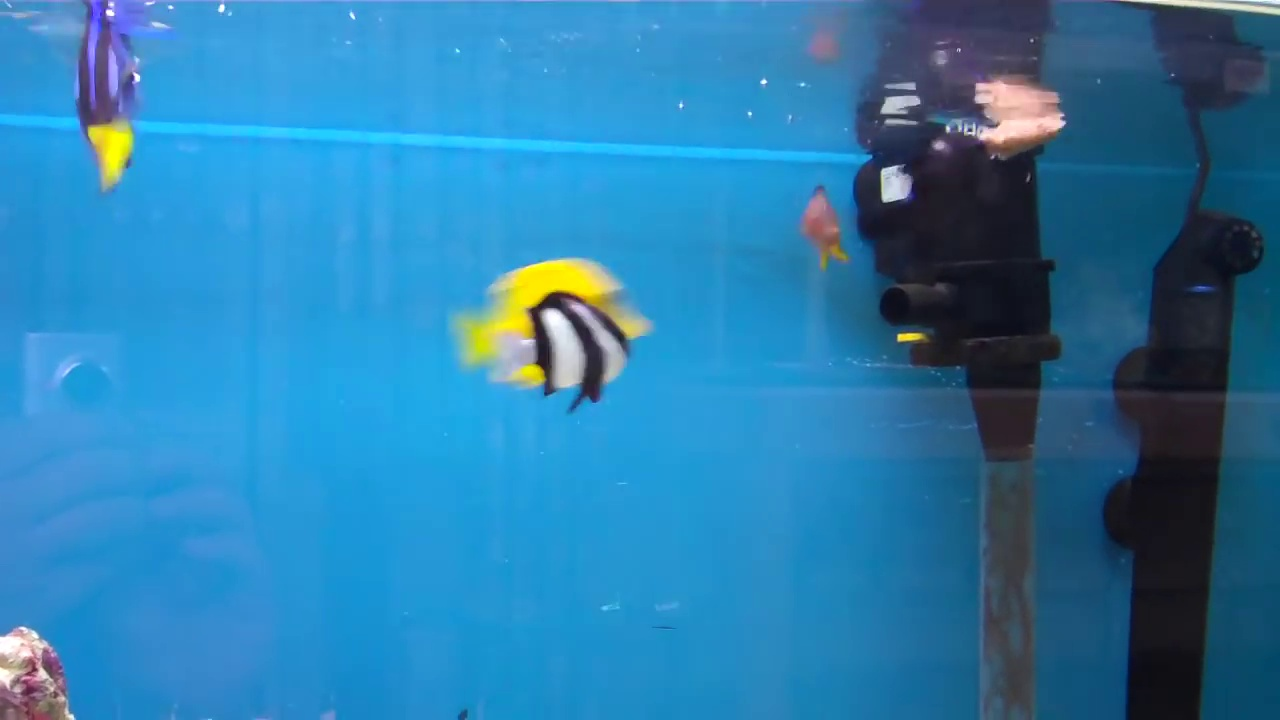blue tang surgeonfish: (54, 0, 154, 228)
